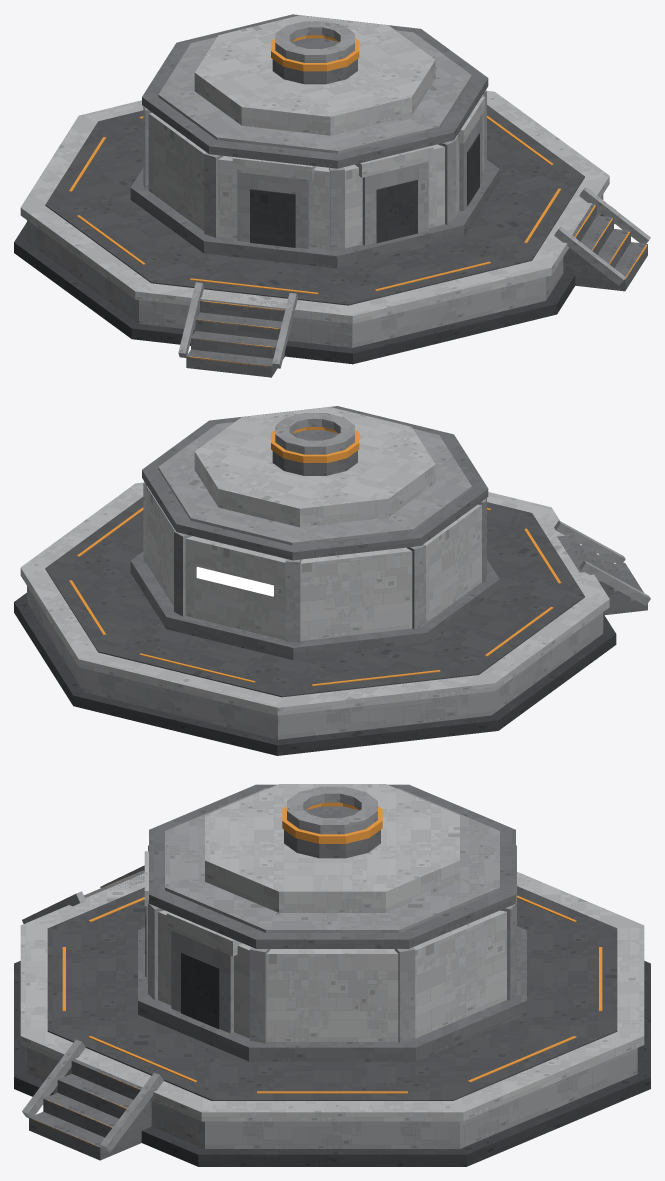
Rendered from habitat_lod2.glb.
3 views of the same model, one above another, from view 1: azimuth 30°, elevation 25°; view 2: azimuth 150°, elevation 25°; view 3: azimuth 270°, elevation 25° (orthographic). The views are drawn at different scales.
Parts seen in each view (by area): view 1: habitat_base_body.002, habitat_base_trim.002; view 2: habitat_base_body.002, habitat_base_trim.002, habitat_base_glow.002; view 3: habitat_base_body.002, habitat_base_trim.002.
Boxes of the visible parts, <box> form: habitat_base_body.002: <box>14,14,650,377</box>; habitat_base_trim.002: <box>69,35,647,366</box>; habitat_base_body.002: <box>14,406,650,755</box>; habitat_base_trim.002: <box>69,427,635,686</box>; habitat_base_glow.002: <box>196,567,273,596</box>; habitat_base_body.002: <box>14,784,650,1166</box>; habitat_base_trim.002: <box>31,802,602,1146</box>.
Bounding box in the file's own units: 3.8 × 1.49 × 3.8.
Materials: 3 (1 with a texture image).
